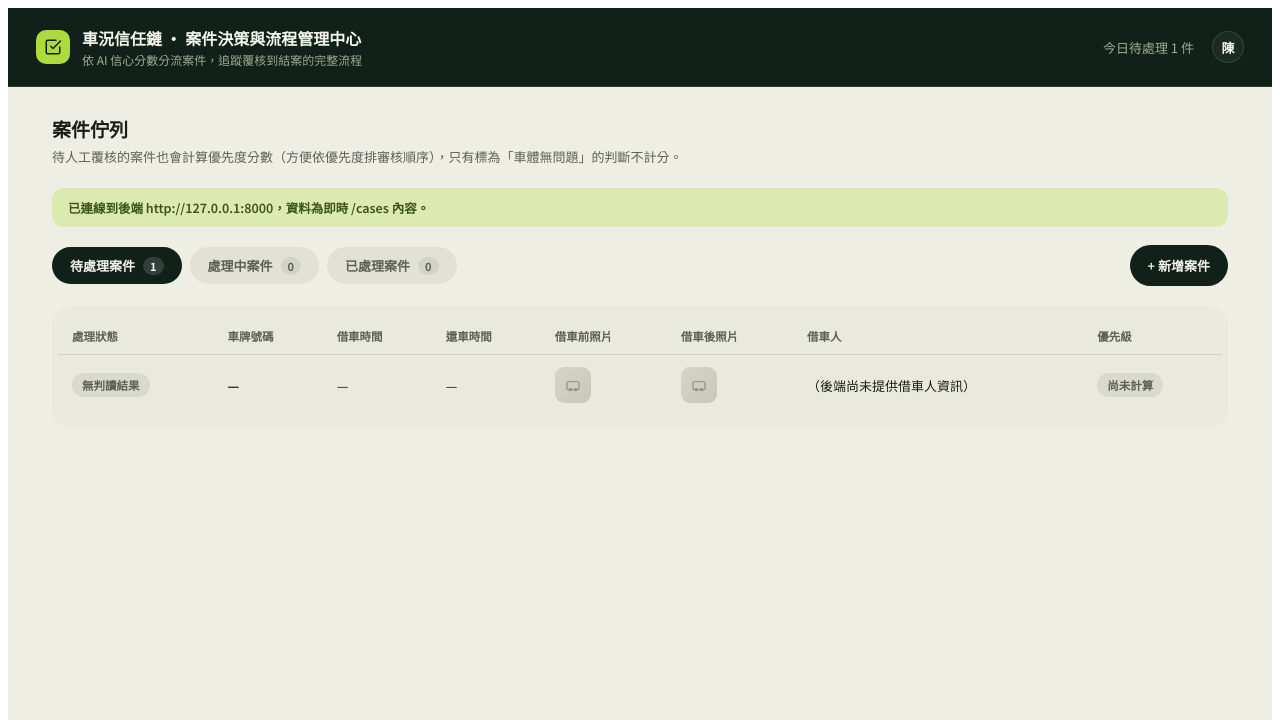
Test: production backstage console › renders and opens a Case with zero detections
The width and height of the screenshot is (1280, 720).
Expected: the text "已連線到後端 http://127.0.0.1:8000，資料為即時 /cases 內容。" is shown, [52, 188, 1228, 227]
Expected: the text "無判讀結果" is shown, [72, 373, 150, 397]
Click the row "無判讀結果 — — — （後端尚未提供借車人資訊） 尚未計算": (640, 385) [58, 354, 1222, 415]
(page scrolled)
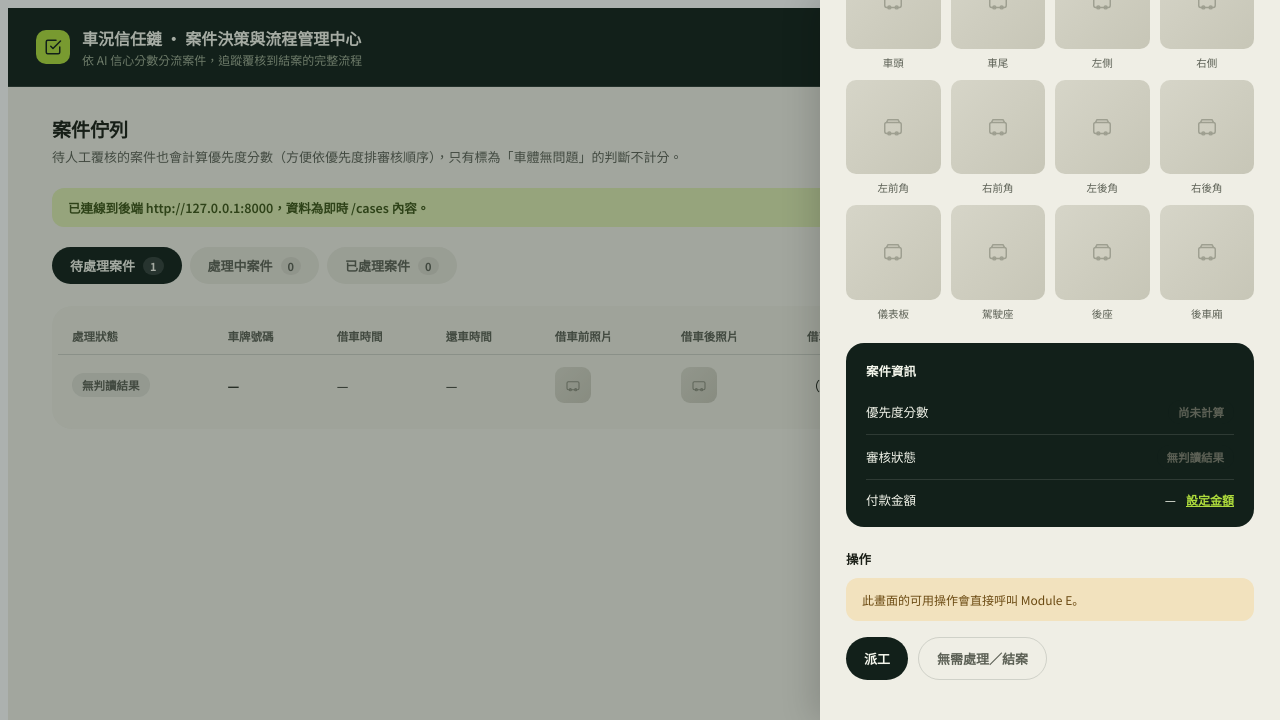
Expected: the button "派工" is shown, [846, 637, 908, 680]
